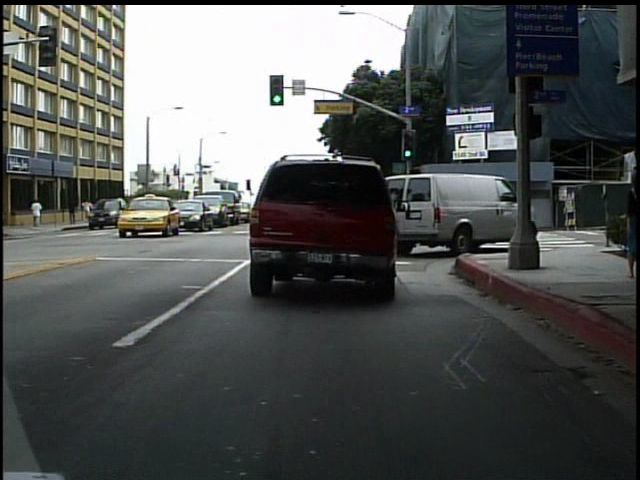person: (482, 175, 504, 235), (31, 196, 47, 230)
